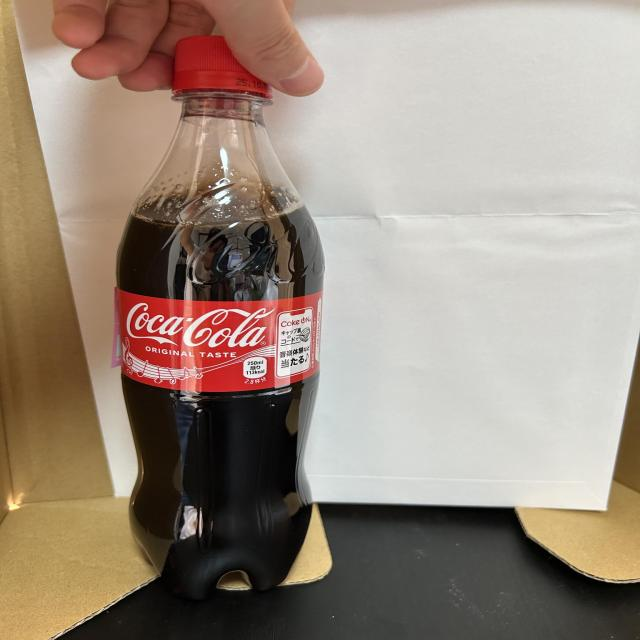high: (116, 35, 325, 599)
